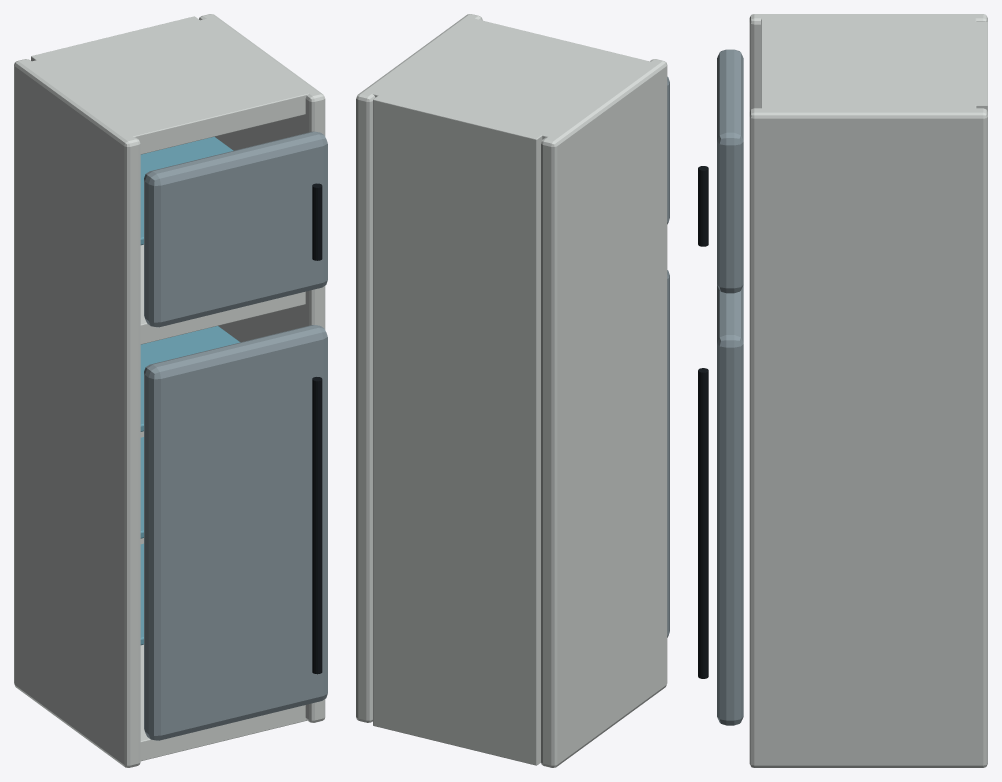
Rendered from edited.glb.
3 renders of one model, left to right at view 1: azimuth 30°, elevation 25°; view 2: azimuth 150°, elevation 25°; view 3: azimuth 270°, elevation 25°, orthographic. The views are drawn at different scales.
Visible parts, largest first — view 1: BODY_Side.001, DOOR_Panel, DOOR_Panel.001, BODY_Slab, BODY_Side, HANDLE, BODY_Slab.001, BODY_Slab.002, INTERIOR_Shelf.002, INTERIOR_Shelf.003, BODY_Back, HANDLE.001; view 2: BODY_Back, BODY_Side.001, BODY_Slab, BODY_Side, DOOR_Panel; view 3: BODY_Side, BODY_Slab, DOOR_Panel, DOOR_Panel.001, HANDLE, BODY_Side.001, BODY_Back, HANDLE.001.
Boxes of the visible parts, <box> form: BODY_Side.001: <box>14,59,140,767</box>; DOOR_Panel: <box>144,325,327,740</box>; DOOR_Panel.001: <box>144,131,327,327</box>; BODY_Slab: <box>30,18,308,154</box>; BODY_Side: <box>199,14,325,722</box>; HANDLE: <box>312,377,322,674</box>; BODY_Slab.001: <box>140,644,306,761</box>; BODY_Slab.002: <box>140,244,305,344</box>; INTERIOR_Shelf.002: <box>140,326,240,431</box>; INTERIOR_Shelf.003: <box>140,136,233,245</box>; BODY_Back: <box>31,16,199,544</box>; HANDLE.001: <box>312,183,322,260</box>; BODY_Back: <box>373,95,543,765</box>; BODY_Side.001: <box>541,59,667,767</box>; BODY_Slab: <box>372,18,650,139</box>; BODY_Side: <box>356,14,482,722</box>; DOOR_Panel: <box>667,270,669,637</box>; BODY_Side: <box>749,108,987,767</box>; BODY_Slab: <box>761,18,976,108</box>; DOOR_Panel: <box>717,285,743,725</box>; DOOR_Panel.001: <box>717,49,743,293</box>; HANDLE: <box>698,368,708,678</box>; BODY_Side.001: <box>749,14,987,111</box>; BODY_Back: <box>970,21,987,111</box>; HANDLE.001: <box>698,166,708,246</box>.
Bounding box in the file's own units: 0.63 × 1.88 × 0.754.
